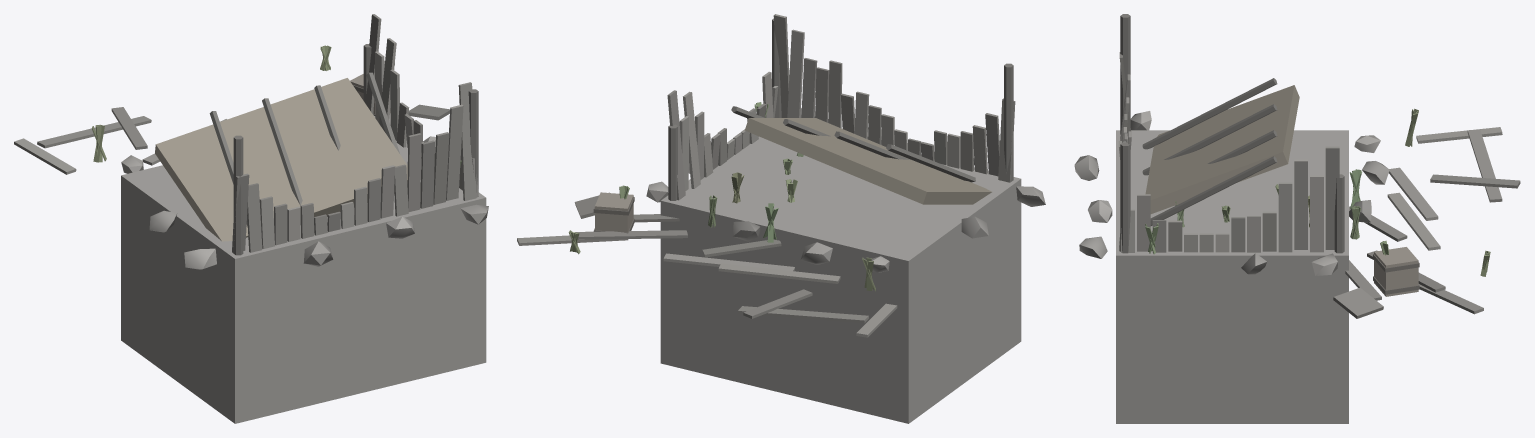
Rendered from tavern_0.gltf.
The picture shows the model from 3 angles, left to right: view 1: azimuth 30°, elevation 25°; view 2: azimuth 150°, elevation 25°; view 3: azimuth 270°, elevation 25°; orthographic projection. The views are drawn at different scales.
Visible parts, largest first — view 1: Body; view 2: Body; view 3: Body.
Boxes of the visible parts, bbox=[...] form: Body: bbox=[14, 14, 488, 423]; Body: bbox=[517, 14, 1045, 423]; Body: bbox=[1074, 14, 1520, 423].
Size of the model in its own units: 6.97 by 5.03 by 7.08.
